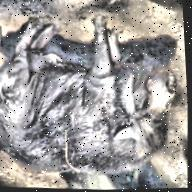boar: (0, 7, 185, 183)
